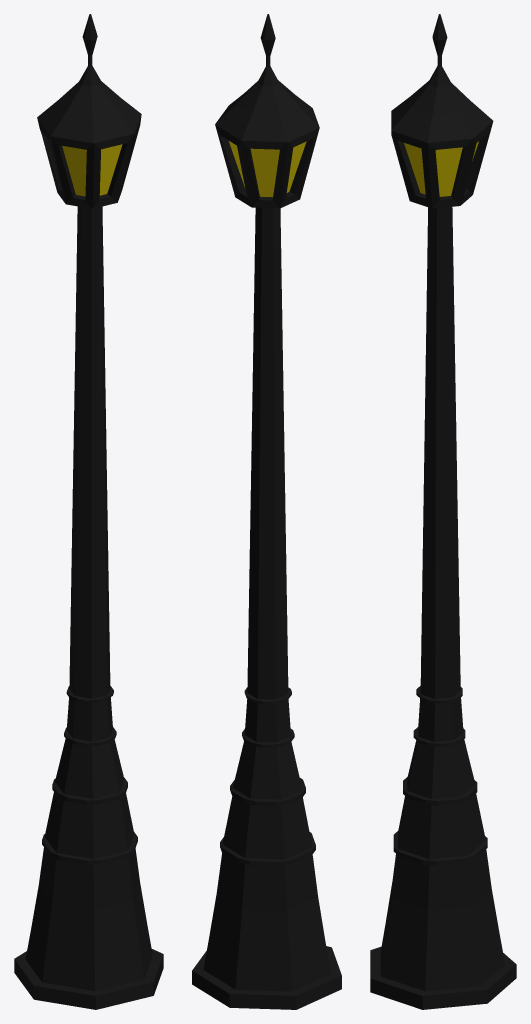
Rendered from Lamp.fbx.
3 views of the same model, side by side, from view 1: azimuth 30°, elevation 25°; view 2: azimuth 150°, elevation 25°; view 3: azimuth 270°, elevation 25° (orthographic).
Parts seen in each view (by area): view 1: Cylinder; view 2: Cylinder; view 3: Cylinder.
Part boxes in pixels (left/top/right/bottom): Cylinder: left=14, top=14, right=163, bottom=1009; Cylinder: left=192, top=14, right=341, bottom=1009; Cylinder: left=370, top=14, right=516, bottom=1009.
Size of the model in its own units: 195 by 1383 by 190.
